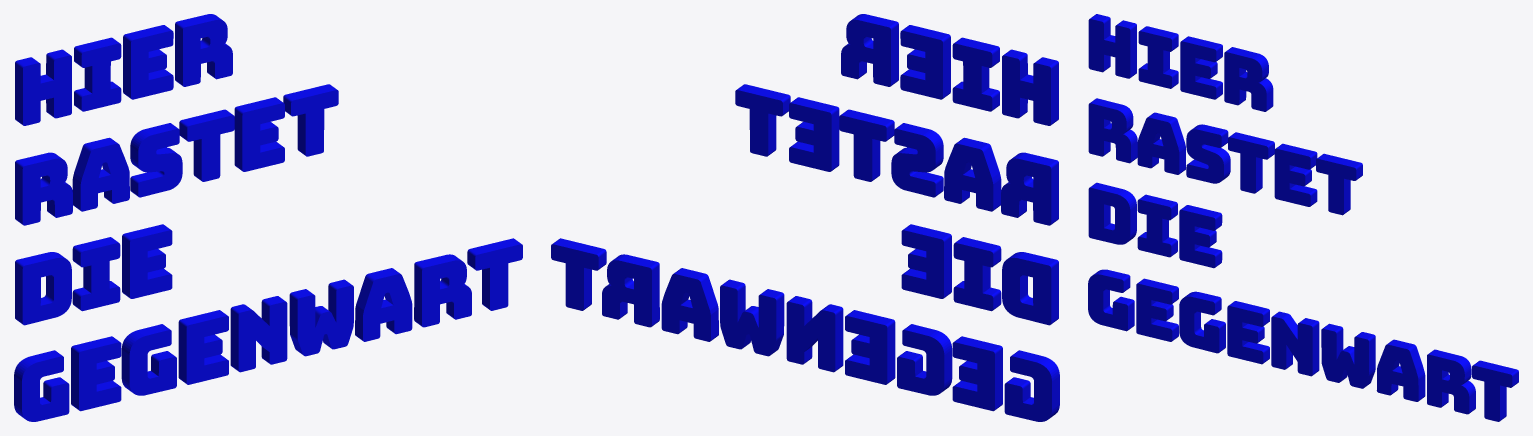
File: hierrastetdiegegenwart.glb
3 renders of one model, left to right at view 1: azimuth 30°, elevation 25°; view 2: azimuth 150°, elevation 25°; view 3: azimuth 330°, elevation 25°, orthographic. The views are drawn at different scales.
Parts seen in each view (by area): view 1: text; view 2: text; view 3: text.
Part boxes in pixels (box(x1,y1,x2,y2)): text: box(14, 14, 522, 421); text: box(551, 14, 1059, 421); text: box(1088, 14, 1518, 421).
Bounding box in the file's own units: 2.99 × 2.04 × 0.0819.
